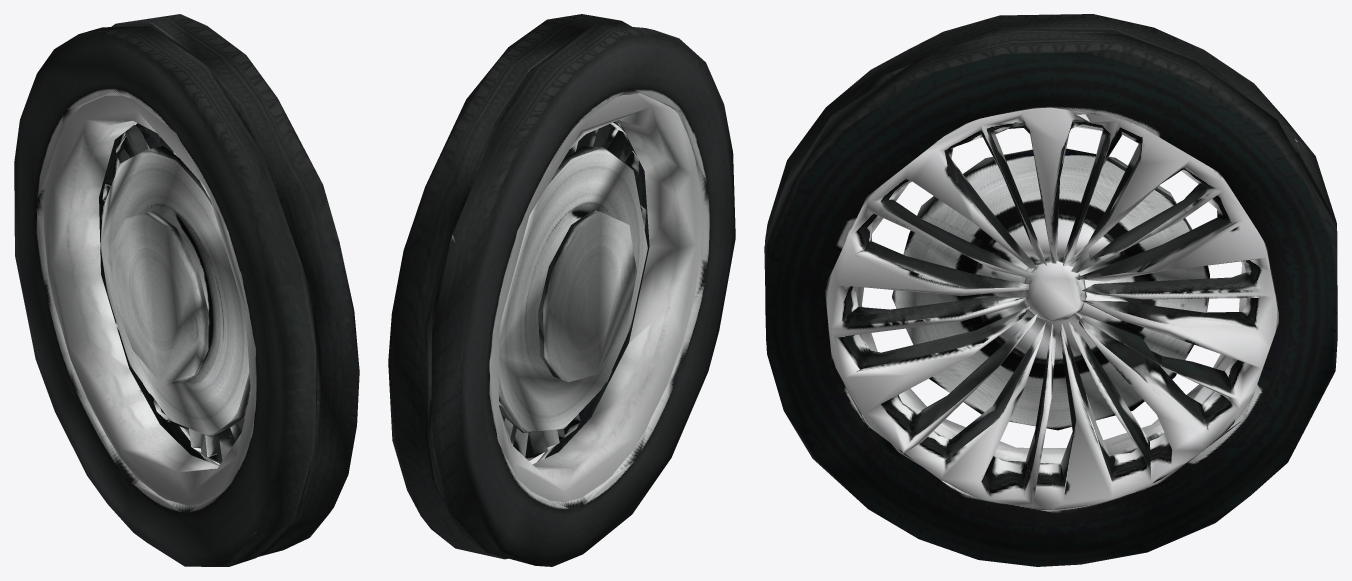
Rendered from luxury_sedan_wheel.obj.
3 renders of one model, left to right at view 1: azimuth 30°, elevation 25°; view 2: azimuth 150°, elevation 25°; view 3: azimuth 270°, elevation 25°, orthographic. The views are drawn at different scales.
Visible parts, largest first — view 1: wheel; view 2: wheel; view 3: wheel.
Part boxes in pixels (<box>): wheel: <box>14,14,359,566</box>; wheel: <box>388,14,735,566</box>; wheel: <box>764,14,1337,566</box>.
Bounding box in the file's own units: 0.1182 × 0.6986 × 0.6979.
